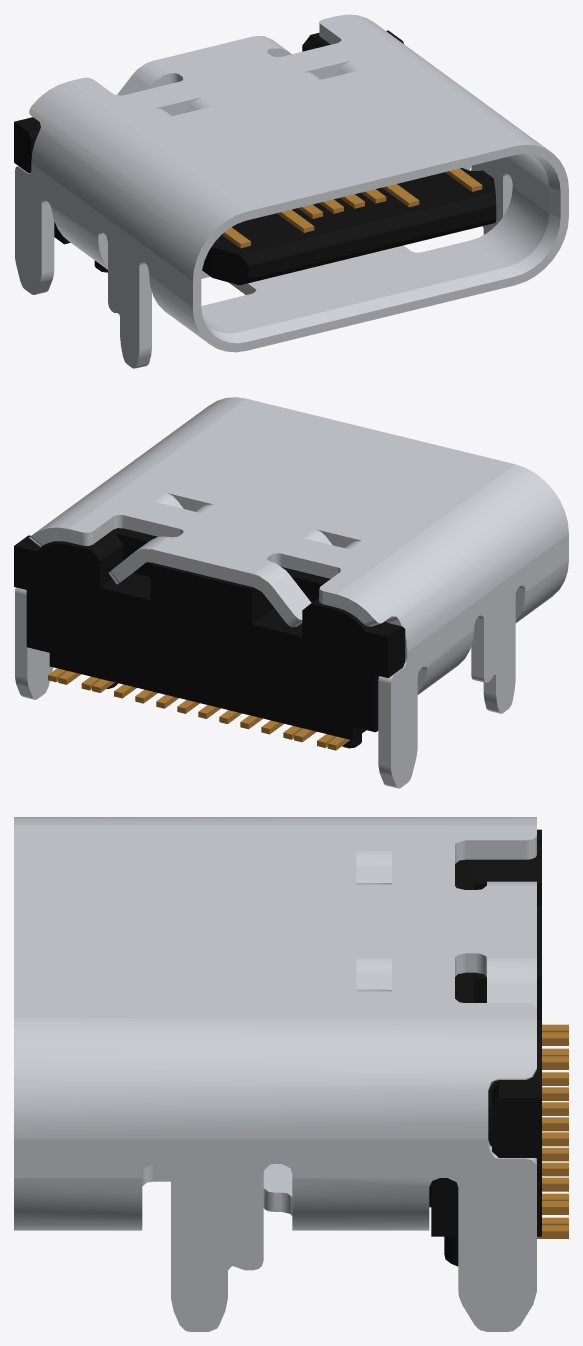
The model's file is kicad-usb-c-gct-usb4105.glb.
3 renders of one model, top to bottom at view 1: azimuth 30°, elevation 25°; view 2: azimuth 150°, elevation 25°; view 3: azimuth 270°, elevation 25°, orthographic. The views are drawn at different scales.
Parts seen in each view (by area): view 1: USB_C_Receptacle_16P_TopMnt_Horizontal_GCT_USB4105-xx-A; view 2: USB_C_Receptacle_16P_TopMnt_Horizontal_GCT_USB4105-xx-A; view 3: USB_C_Receptacle_16P_TopMnt_Horizontal_GCT_USB4105-xx-A.
Boxes of the visible parts, left/top/right/bottom form: USB_C_Receptacle_16P_TopMnt_Horizontal_GCT_USB4105-xx-A: left=14, top=14, right=568, bottom=368; USB_C_Receptacle_16P_TopMnt_Horizontal_GCT_USB4105-xx-A: left=14, top=397, right=568, bottom=788; USB_C_Receptacle_16P_TopMnt_Horizontal_GCT_USB4105-xx-A: left=14, top=817, right=568, bottom=1331.
Size of the model in its own units: 8.94 by 4.26 by 7.78.
